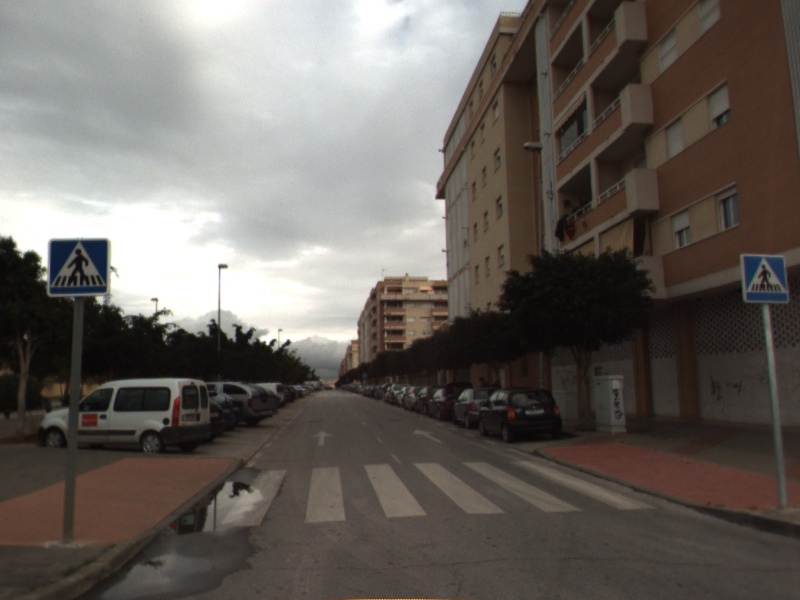STRAIGHT: (411, 427, 444, 445), (310, 428, 335, 448)
